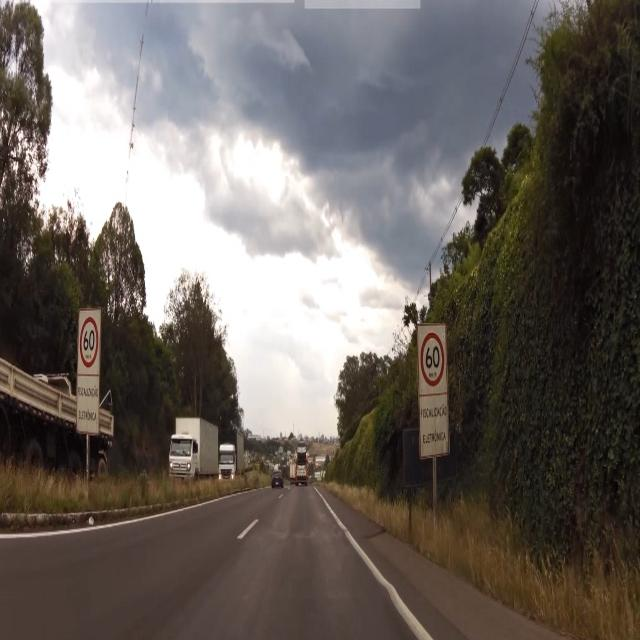R-19: (421, 331, 447, 387), (79, 317, 98, 367)
